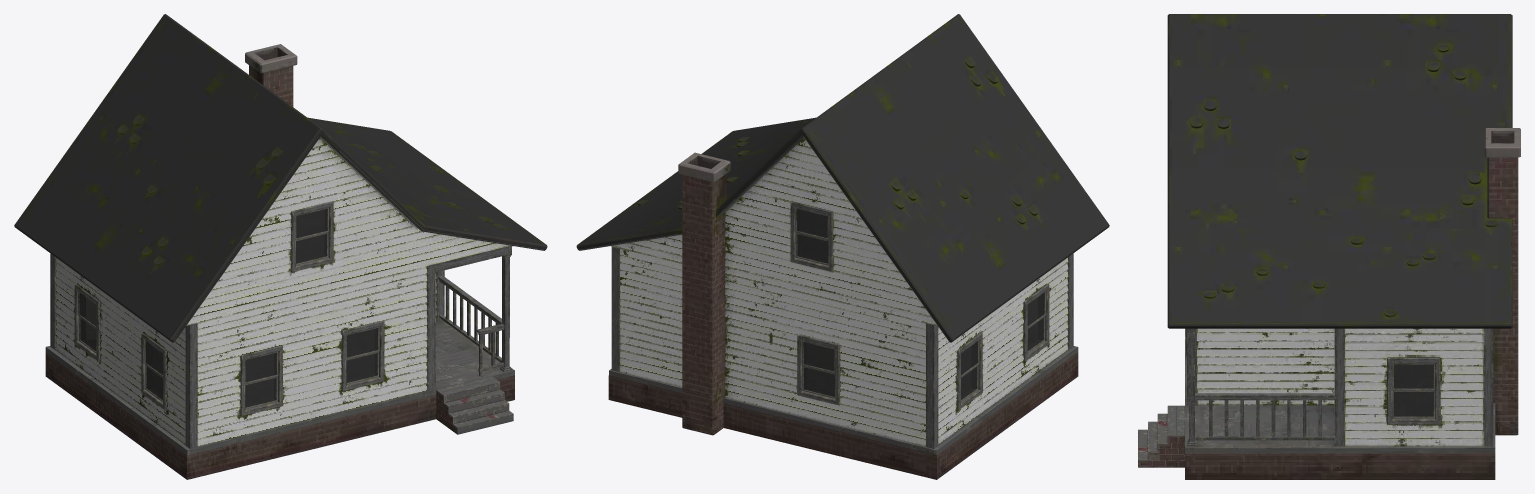
File: house-american.glb
The picture shows the model from 3 angles, left to right: view 1: azimuth 30°, elevation 25°; view 2: azimuth 150°, elevation 25°; view 3: azimuth 270°, elevation 25°; orthographic projection. The views are drawn at different scales.
Visible parts, largest first — view 1: Up, Wall1, Base, Wall3, Down1, Cube, Tube, Border2, Angle3, Angle2, WindowOut, WindowOut.001 (+13 smaller); view 2: Up, Wall4, Tube, Base, Wall3, Down1, Angle5, Angle4, WindowOut.006, WindowOut.005, WindowOutDown.005, WindowUo.005 (+5 smaller); view 3: Up, Wall2, Wall6, Base, Down1, Tube, Border2, Cube, WindowOut.007, Angle4, WindowOutDown.007, WindowUo.007 (+2 smaller).
Boxes of the visible parts, bbox=[...] form: Up: bbox=[14, 14, 547, 342]; Wall1: bbox=[186, 138, 513, 446]; Base: bbox=[45, 352, 514, 479]; Wall3: bbox=[55, 257, 185, 444]; Down1: bbox=[45, 321, 514, 455]; Cube: bbox=[436, 376, 513, 434]; Tube: bbox=[245, 44, 297, 106]; Border2: bbox=[438, 276, 501, 362]; Angle3: bbox=[185, 323, 197, 448]; Angle2: bbox=[427, 264, 435, 390]; WindowOut: bbox=[341, 320, 384, 391]; WindowOut.001: bbox=[240, 345, 282, 415]; Up: bbox=[576, 14, 1109, 342]; Wall4: bbox=[611, 138, 937, 446]; Tube: bbox=[678, 152, 730, 435]; Base: bbox=[608, 352, 1078, 479]; Wall3: bbox=[938, 257, 1068, 444]; Down1: bbox=[609, 346, 1078, 455]; Angle5: bbox=[926, 323, 938, 448]; Angle4: bbox=[611, 246, 620, 371]; WindowOut.006: bbox=[790, 201, 833, 272]; WindowOut.005: bbox=[797, 334, 840, 405]; WindowOutDown.005: bbox=[802, 365, 835, 398]; WindowUo.005: bbox=[802, 340, 835, 373]; Up: bbox=[1167, 14, 1512, 328]; Wall2: bbox=[1344, 328, 1483, 446]; Wall6: bbox=[1196, 328, 1334, 405]; Base: bbox=[1185, 453, 1495, 479]; Down1: bbox=[1185, 328, 1495, 452]; Tube: bbox=[1484, 128, 1520, 435]; Border2: bbox=[1195, 393, 1334, 440]; Cube: bbox=[1138, 405, 1184, 467]; WindowOut.007: bbox=[1387, 357, 1440, 424]; Angle4: bbox=[1483, 328, 1493, 446]; WindowOutDown.007: bbox=[1392, 391, 1435, 418]; WindowUo.007: bbox=[1392, 363, 1435, 390].
Bounding box in the file's own units: 9.69 × 8 × 7.76.
6 materials, 5 textured.
